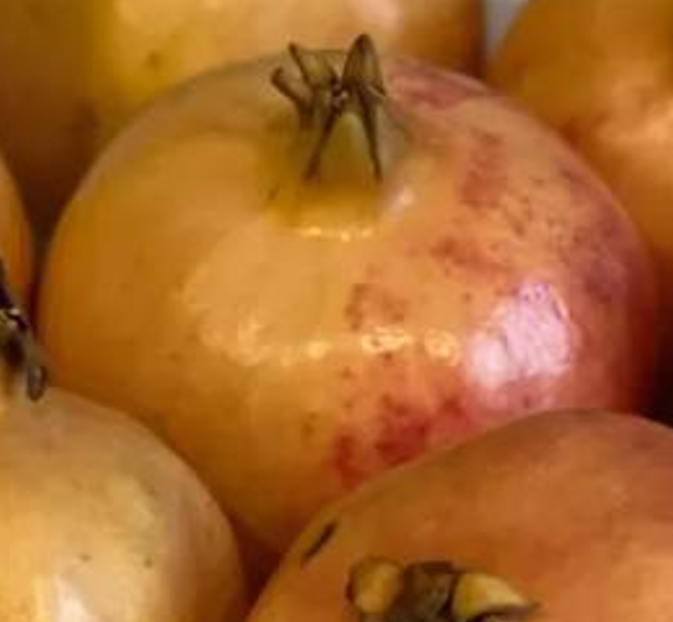pomegranate_B: (31, 33, 665, 609)
